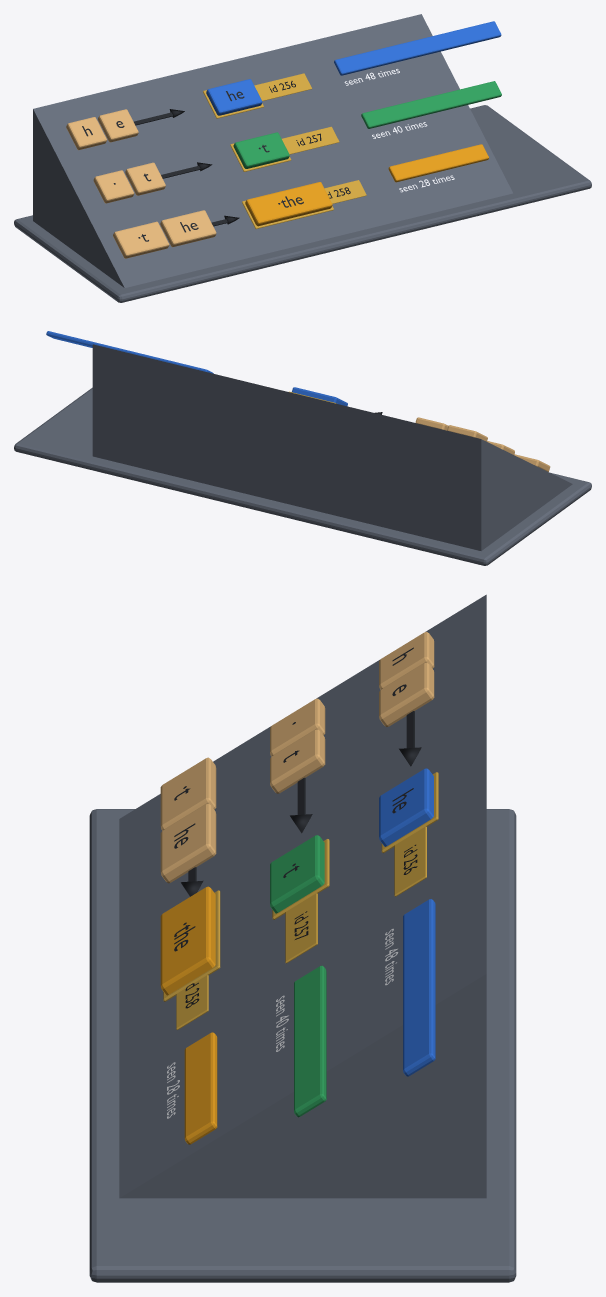
File: merge_learner.glb
3 views of the same model, one above another, from view 1: azimuth 30°, elevation 25°; view 2: azimuth 150°, elevation 25°; view 3: azimuth 270°, elevation 25° (orthographic). The views are drawn at different scales.
Visible parts, largest first — view 1: slope, stand, bar0, bar1, m2_b, bar2, l2_b, m1_b, r2_b, m0_b, l1_b, r1_b (+6 smaller); view 2: slope, stand, bar0, m0_b; view 3: slope, stand, bar0, m2_b, bar1, bar2, r2_b, m1_b, m0_b, l2_b, r1_b, r0_b (+6 smaller).
Boxes of the visible parts, x1=… form: slope: x1=33, y1=14, x2=512, y2=287; stand: x1=14, y1=105, x2=591, y2=302; bar0: x1=334, y1=21, x2=501, y2=75; bar1: x1=361, y1=81, x2=501, y2=128; m2_b: x1=245, y1=182, x2=332, y2=226; bar2: x1=388, y1=144, x2=488, y2=182; l2_b: x1=113, y1=221, x2=169, y2=258; m1_b: x1=233, y1=132, x2=289, y2=168; r2_b: x1=160, y1=210, x2=216, y2=247; m0_b: x1=206, y1=79, x2=262, y2=115; l1_b: x1=93, y1=170, x2=134, y2=203; r1_b: x1=125, y1=162, x2=165, y2=195; slope: x1=92, y1=344, x2=572, y2=550; stand: x1=14, y1=387, x2=591, y2=565; bar0: x1=46, y1=331, x2=213, y2=373; m0_b: x1=292, y1=387, x2=347, y2=406; slope: x1=119, y1=594, x2=486, y2=1198; stand: x1=89, y1=809, x2=516, y2=1282; bar0: x1=403, y1=899, x2=435, y2=1076; m2_b: x1=160, y1=886, x2=215, y2=995; bar1: x1=294, y1=965, x2=326, y2=1117; bar2: x1=184, y1=1032, x2=217, y2=1144; r2_b: x1=160, y1=803, x2=216, y2=883; m1_b: x1=270, y1=835, x2=324, y2=913; m0_b: x1=379, y1=768, x2=433, y2=846; l2_b: x1=160, y1=757, x2=216, y2=830; r1_b: x1=270, y1=729, x2=325, y2=793; r0_b: x1=379, y1=662, x2=434, y2=726.
Bounding box in the file's own units: 1.83 × 0.4438 × 0.7134.
